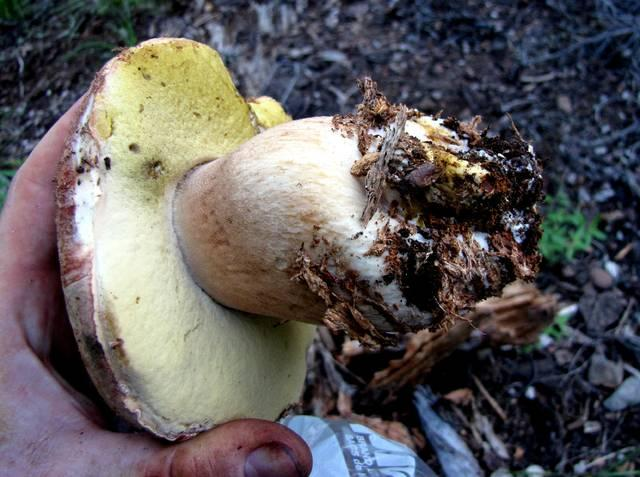Edible Mushroom: (52, 35, 511, 435)
